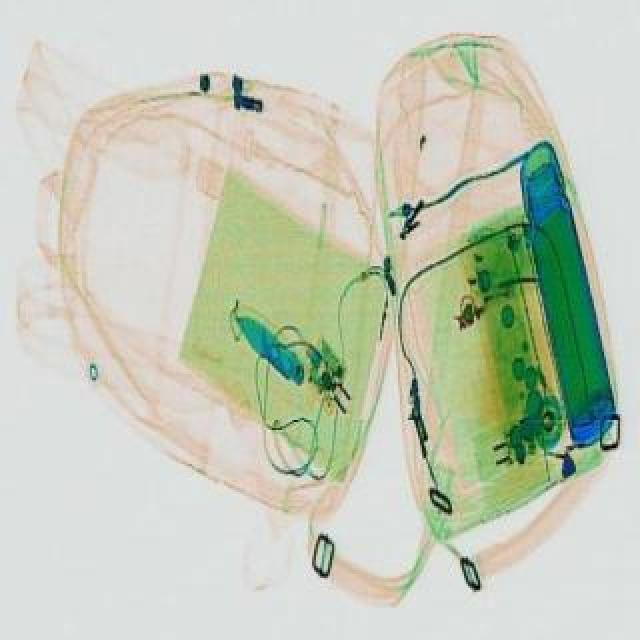knife: (222, 306, 316, 386)
